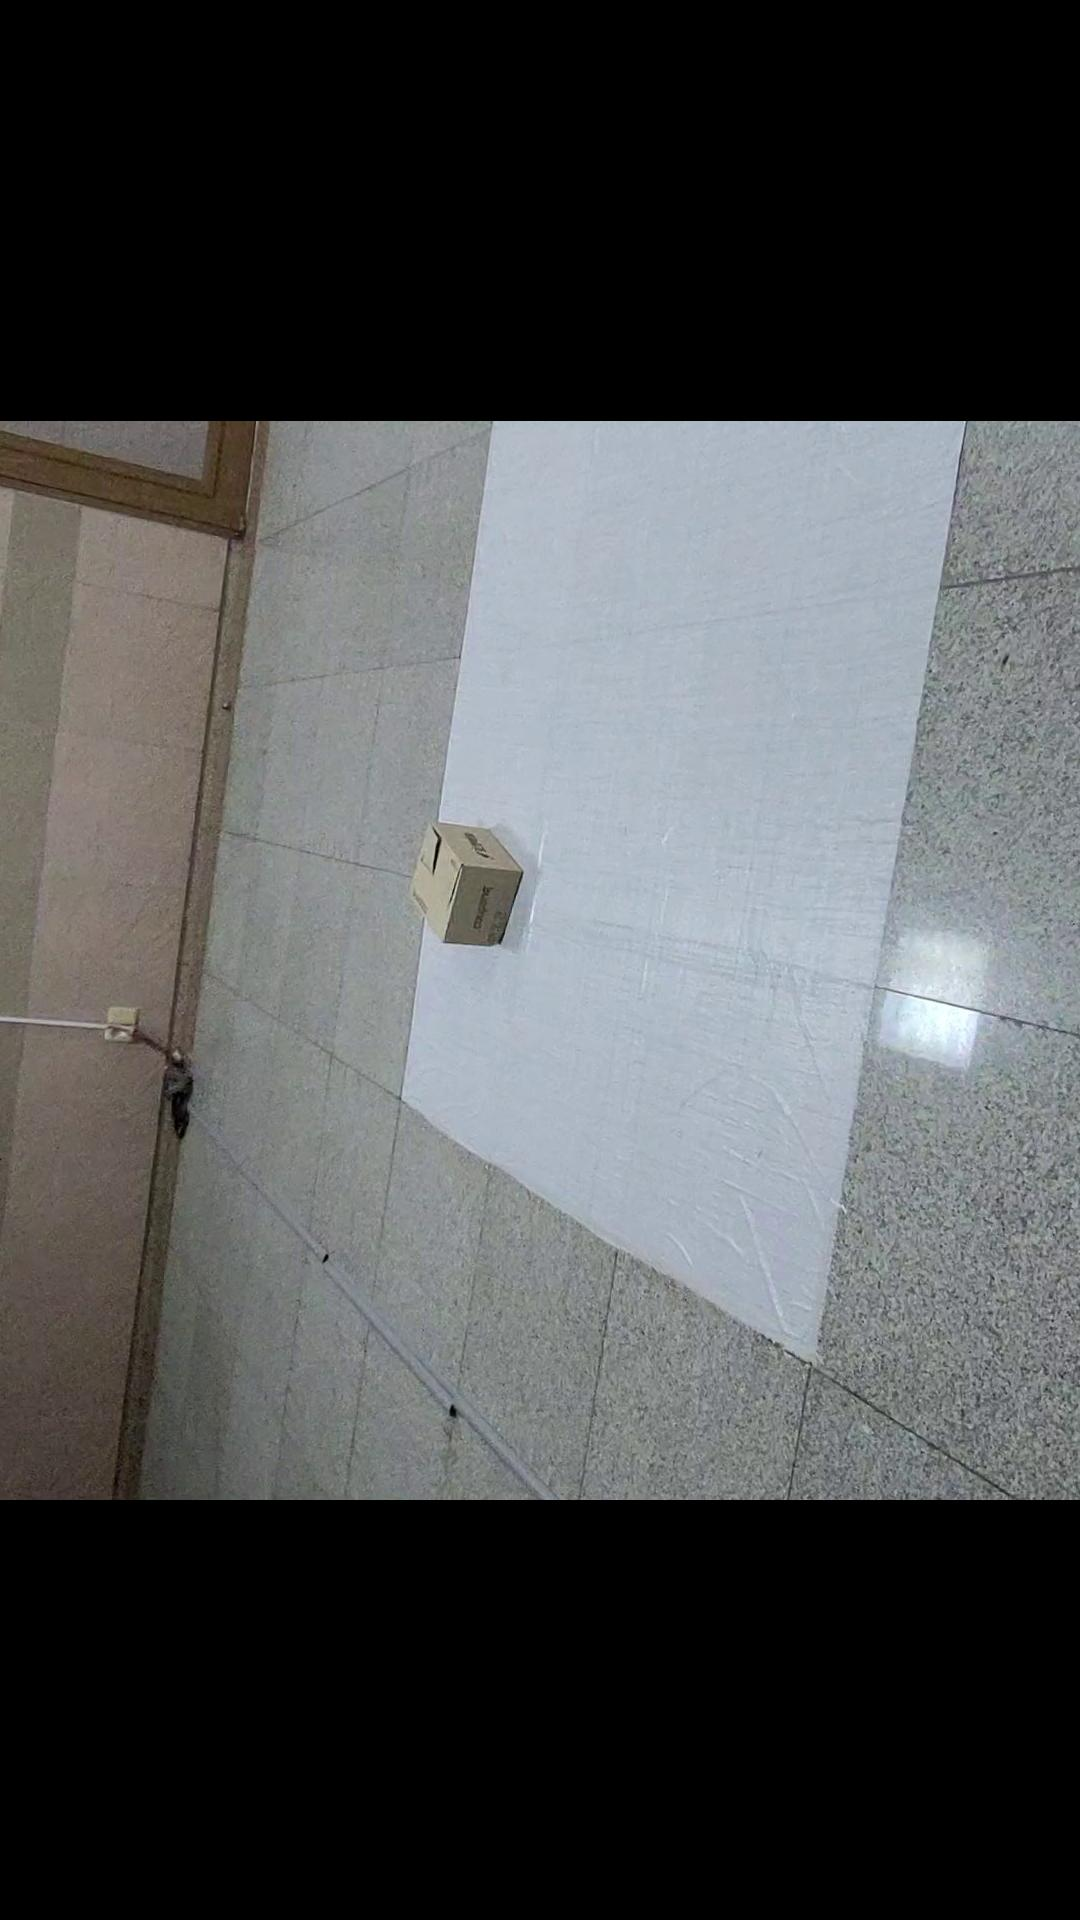Box: (388, 820, 538, 984)
